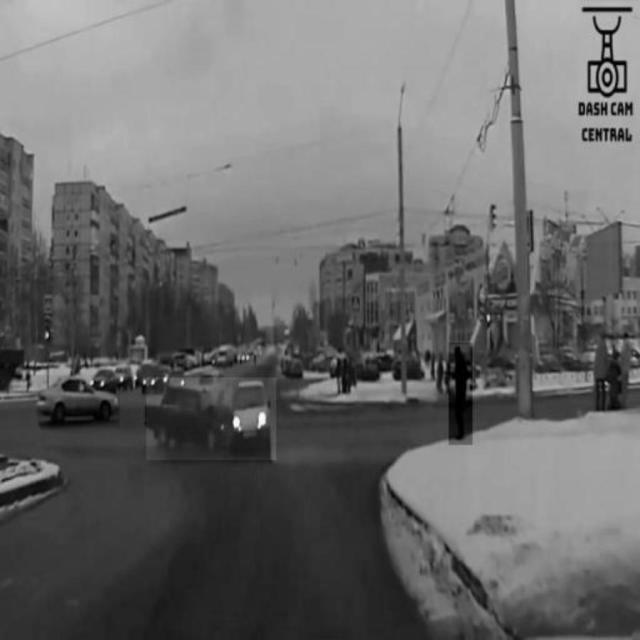accident: (147, 378, 277, 460)
person: (449, 343, 473, 445)
vehicle: (38, 374, 120, 428)
